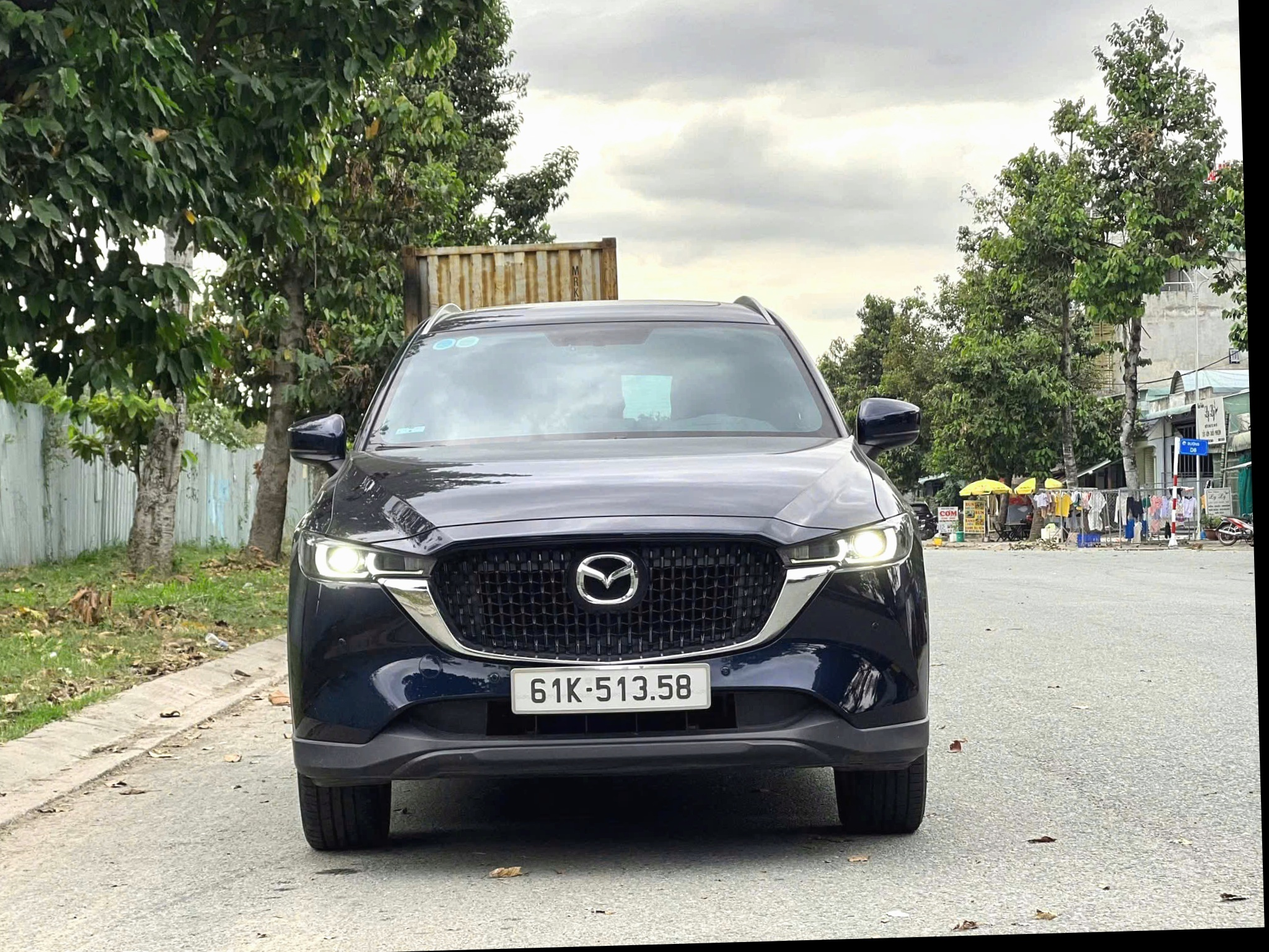Bien-so: (480, 656, 681, 716)
